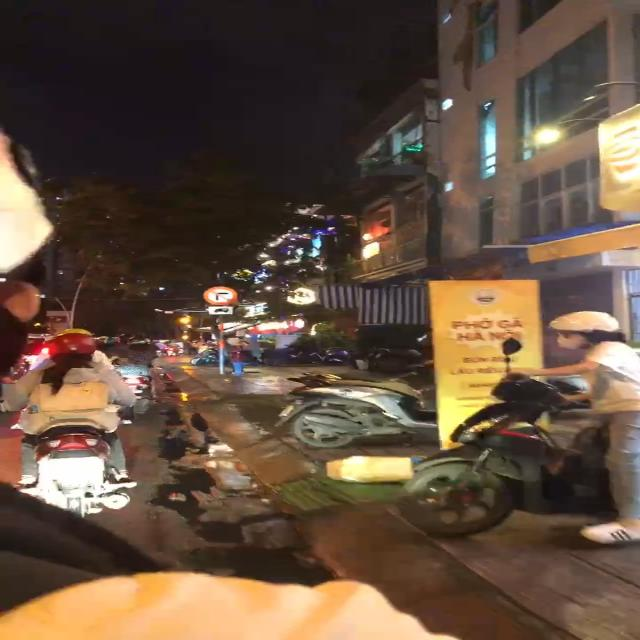Bien bao cam re phai: (198, 286, 238, 304)
